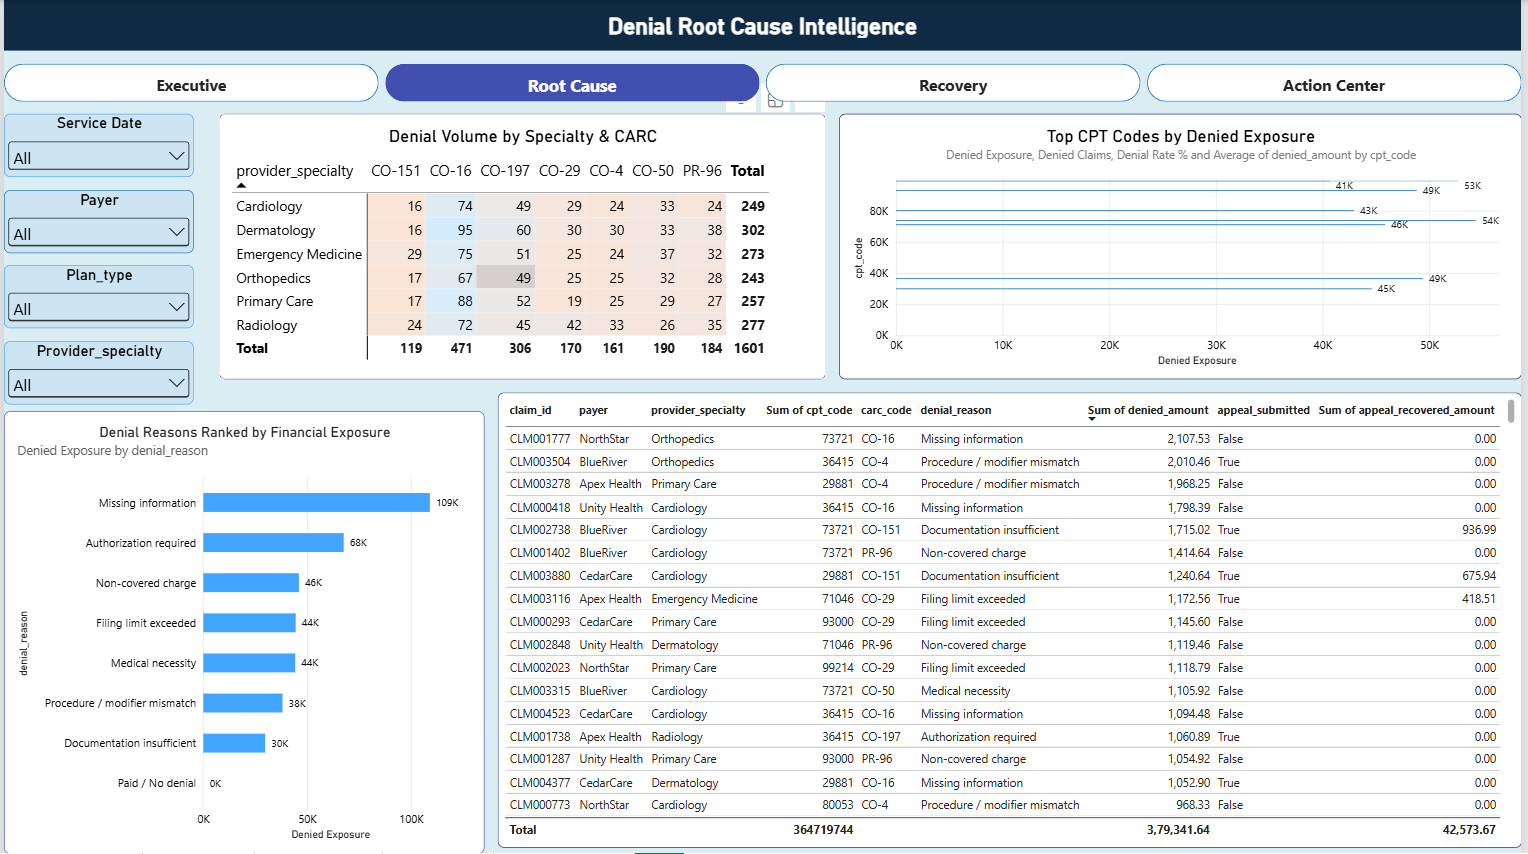

This screenshot's page, from the dashboard's own definition file:
{"tool":"powerbi","page":{"name":"Root Cause","canvas":[1920,1080],"ordinal":1},"visuals":[{"type":"textbox","title":"Denial Root Cause Intelligence","box":[0,0,1920,64],"z":0},{"type":"clusteredBarChart","title":"Denial Reasons Ranked by Financial Exposure","fields":{"Category":["claims_processed.denial_reason"],"Y":["claims_processed.Denied Exposure"]},"box":[0,520,608,560],"z":1000},{"type":"pivotTable","title":"Denial Volume by Specialty & CARC","fields":{"Columns":["claims_processed.carc_code"],"Rows":["claims_processed.provider_specialty"],"Values":["claims_processed.Denied Claims"]},"box":[272,144,768,336],"z":2000},{"type":"clusteredBarChart","title":"Top CPT Codes by Denied Exposure","fields":{"Category":["claims_processed.cpt_code"],"Y":["claims_processed.Denied Exposure"]},"box":[1056,144,864,336],"z":3000},{"type":"tableEx","fields":{"Values":["claims_processed.claim_id","claims_processed.payer","claims_processed.provider_specialty","Sum(claims_processed.cpt_code)","claims_processed.carc_code","claims_processed.denial_reason","Sum(claims_processed.denied_amount)","claims_processed.appeal_submitted","Sum(claims_processed.appeal_recovered_amount)"]},"box":[624,496,1296,576],"z":4000},{"type":"slicer","title":"Service Date","fields":{"Values":["claims_processed.Month Label"]},"box":[0,144,240,80],"z":5000},{"type":"slicer","title":"Plan_type","fields":{"Values":["claims_processed.plan_type"]},"box":[0,336,240,80],"z":6000},{"type":"slicer","title":"Provider_specialty","fields":{"Values":["claims_processed.provider_specialty"]},"box":[0,432,240,80],"z":7000},{"type":"pageNavigator","box":[0,80,1920,48],"z":8000},{"type":"slicer","title":"Payer","fields":{"Values":["claims_processed.payer"]},"box":[0,240,240,80],"z":9000}]}

Visuals, with their boxes in screenshot pixels (x1, y1, x2, y2), scaled from the page's 1920x1080 canvas onto the 1528x854 screenshot:
"Denial Root Cause Intelligence" textbox: {"x1": 0, "y1": 0, "x2": 1527, "y2": 51}
"Denial Reasons Ranked by Financial Exposure" clusteredBarChart: {"x1": 0, "y1": 411, "x2": 484, "y2": 853}
"Denial Volume by Specialty & CARC" pivotTable: {"x1": 216, "y1": 114, "x2": 828, "y2": 380}
"Top CPT Codes by Denied Exposure" clusteredBarChart: {"x1": 840, "y1": 114, "x2": 1527, "y2": 380}
tableEx - claims_processed.claim_id x claims_processed.payer: {"x1": 497, "y1": 392, "x2": 1527, "y2": 848}
"Service Date" slicer: {"x1": 0, "y1": 114, "x2": 191, "y2": 177}
"Plan_type" slicer: {"x1": 0, "y1": 266, "x2": 191, "y2": 329}
"Provider_specialty" slicer: {"x1": 0, "y1": 342, "x2": 191, "y2": 405}
pageNavigator: {"x1": 0, "y1": 63, "x2": 1527, "y2": 101}
"Payer" slicer: {"x1": 0, "y1": 190, "x2": 191, "y2": 253}
